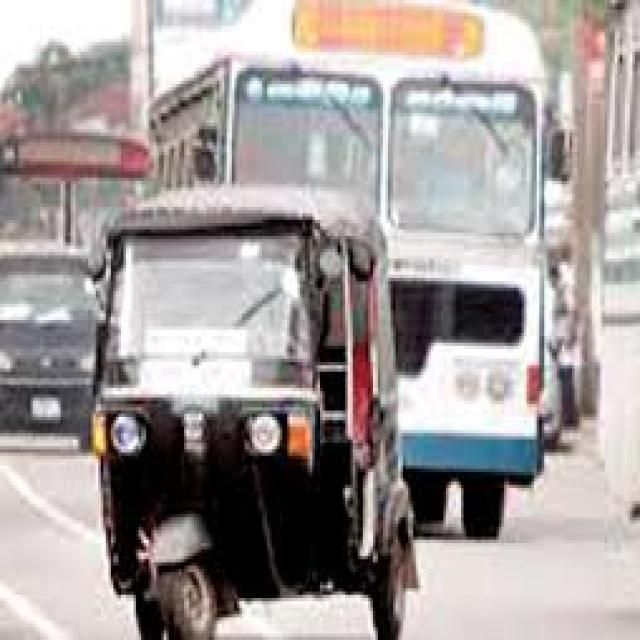bus: (148, 12, 560, 177), (5, 112, 86, 250)
tuktuk: (95, 191, 455, 635)
